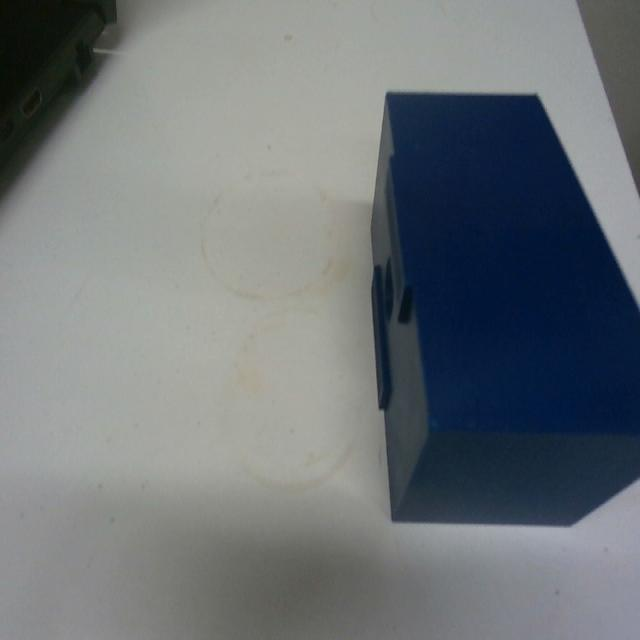Blue Cuboid: (366, 85, 639, 528)
